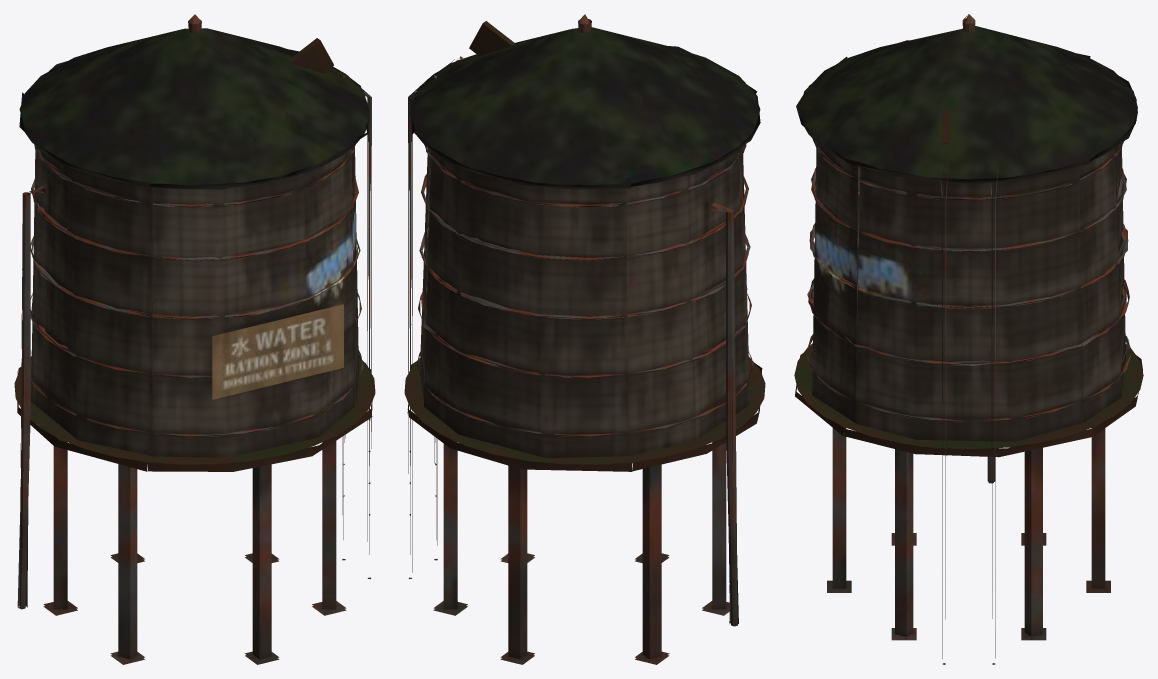
File: water_tank_lod1.glb
3 views of the same model, side by side, from view 1: azimuth 30°, elevation 25°; view 2: azimuth 150°, elevation 25°; view 3: azimuth 270°, elevation 25° (orthographic). The views are drawn at different scales.
Visible parts, largest first — view 1: water_tank; view 2: water_tank; view 3: water_tank.
Boxes of the visible parts, x1=… form: water_tank: x1=14, y1=14, x2=375, y2=664; water_tank: x1=404, y1=14, x2=765, y2=664; water_tank: x1=794, y1=14, x2=1143, y2=664.
Size of what is drawn, in the model's own units: 3.25 by 5.62 by 3.1.
1 material, 1 textured.
